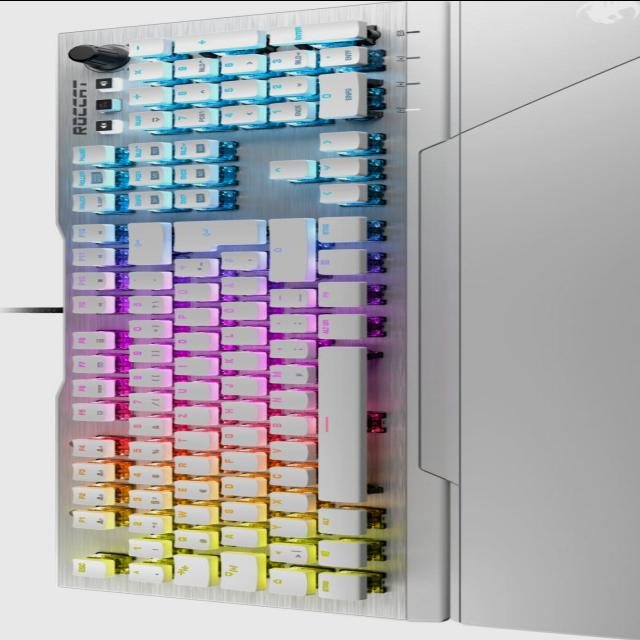0: (122, 319, 167, 339)
1: (123, 540, 162, 560)
2: (124, 515, 164, 535)
3: (123, 491, 166, 511)
4: (123, 466, 166, 486)
5: (123, 442, 167, 462)
6: (122, 417, 166, 437)
7: (123, 393, 167, 413)
8: (123, 368, 167, 388)
9: (123, 344, 167, 364)
a: (216, 528, 257, 548)
accent: (123, 272, 166, 291)
ae: (216, 276, 262, 296)
alt-left: (312, 508, 364, 537)
altgr-right: (313, 313, 363, 341)
b: (264, 416, 307, 437)
c: (264, 467, 305, 487)
caret: (124, 564, 162, 584)
comma: (265, 340, 307, 360)
d: (215, 478, 257, 498)
del: (123, 223, 164, 266)
e: (169, 481, 211, 501)
enter: (168, 219, 260, 253)
f: (216, 453, 258, 473)
g: (216, 427, 258, 447)
h: (216, 402, 260, 422)
hash: (217, 252, 261, 272)
i: (170, 357, 211, 377)
j: (215, 377, 261, 397)
k: (216, 352, 261, 372)
keyboard: (51, 11, 409, 606)
l: (216, 327, 262, 347)
less: (263, 544, 307, 566)
m: (264, 366, 308, 386)
minus: (264, 289, 310, 309)
n: (264, 391, 306, 411)
o: (170, 332, 212, 352)
oe: (216, 302, 261, 322)
p: (170, 308, 212, 328)
plus: (169, 259, 214, 279)
point: (265, 314, 308, 334)
q: (169, 531, 211, 552)
r: (169, 456, 209, 476)
s: (215, 503, 258, 523)
shift-left: (263, 569, 305, 597)
shift-lock: (216, 552, 257, 593)
shift-right: (263, 219, 308, 284)
space: (313, 345, 363, 505)
ss: (123, 296, 168, 316)
strg-left: (313, 572, 363, 602)
strg-right: (313, 216, 365, 244)
t: (169, 432, 209, 451)
tab: (169, 555, 207, 588)
u: (169, 382, 211, 402)
ue: (170, 284, 212, 303)
v: (264, 442, 306, 462)
w: (169, 506, 208, 526)
x: (264, 493, 305, 513)
y: (264, 519, 305, 539)
z: (170, 407, 210, 427)
